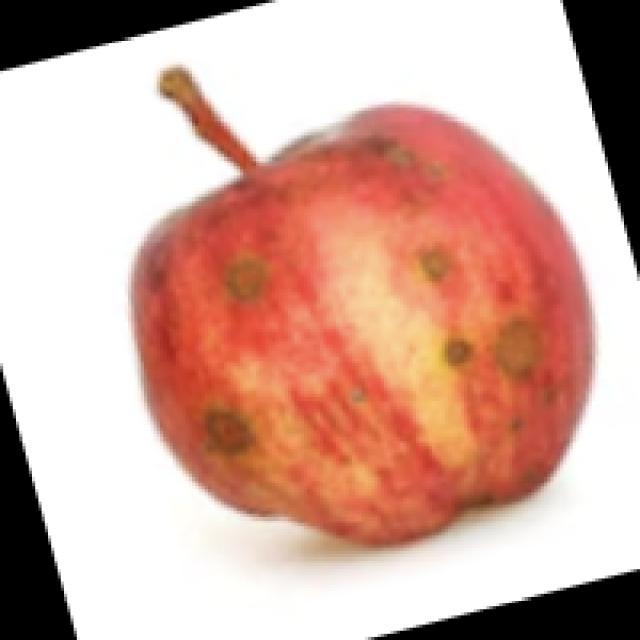Rotten: (108, 112, 615, 550)
